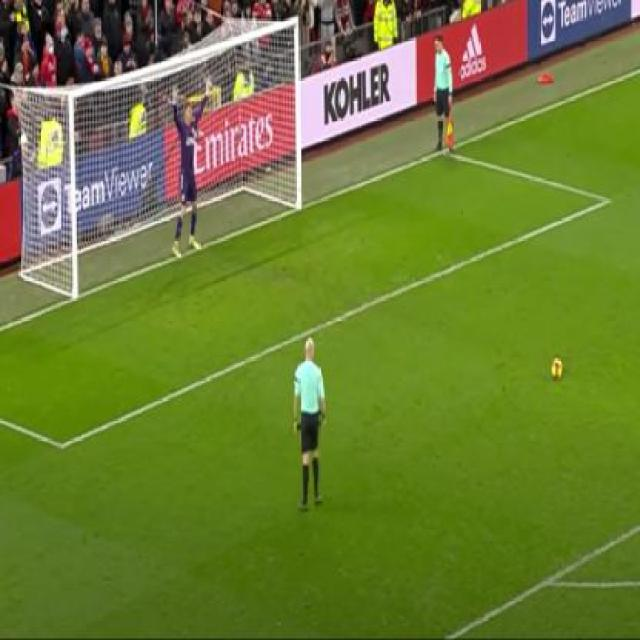arbitre: (282, 329, 352, 519), (414, 25, 474, 162)
ball: (548, 348, 574, 390)
cage: (12, 12, 302, 298)
gardien: (170, 81, 207, 256)
